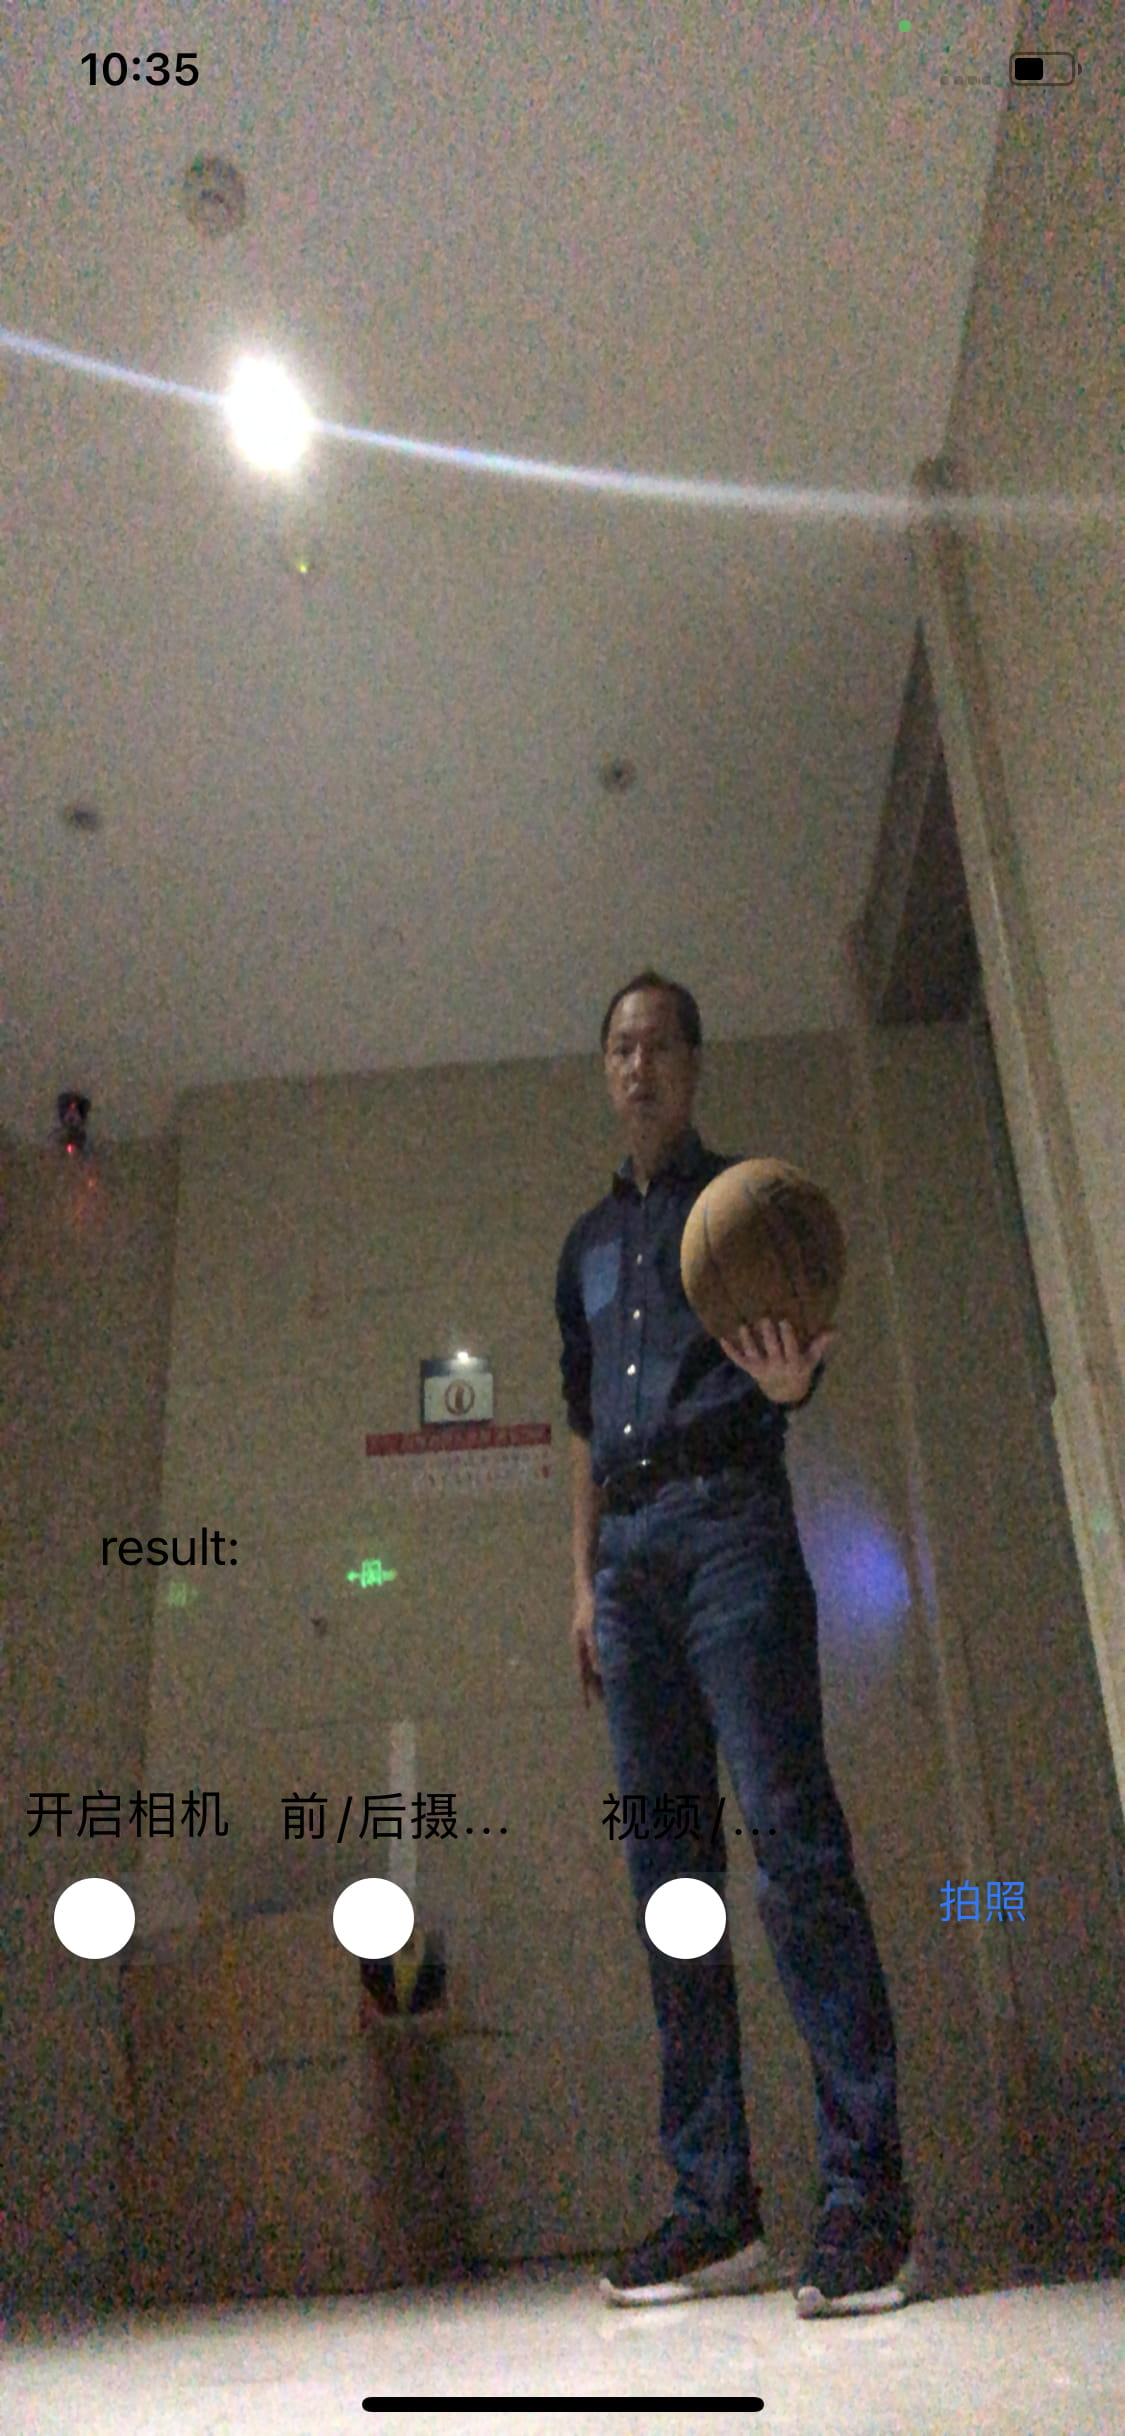ball: (681, 1159, 852, 1355)
